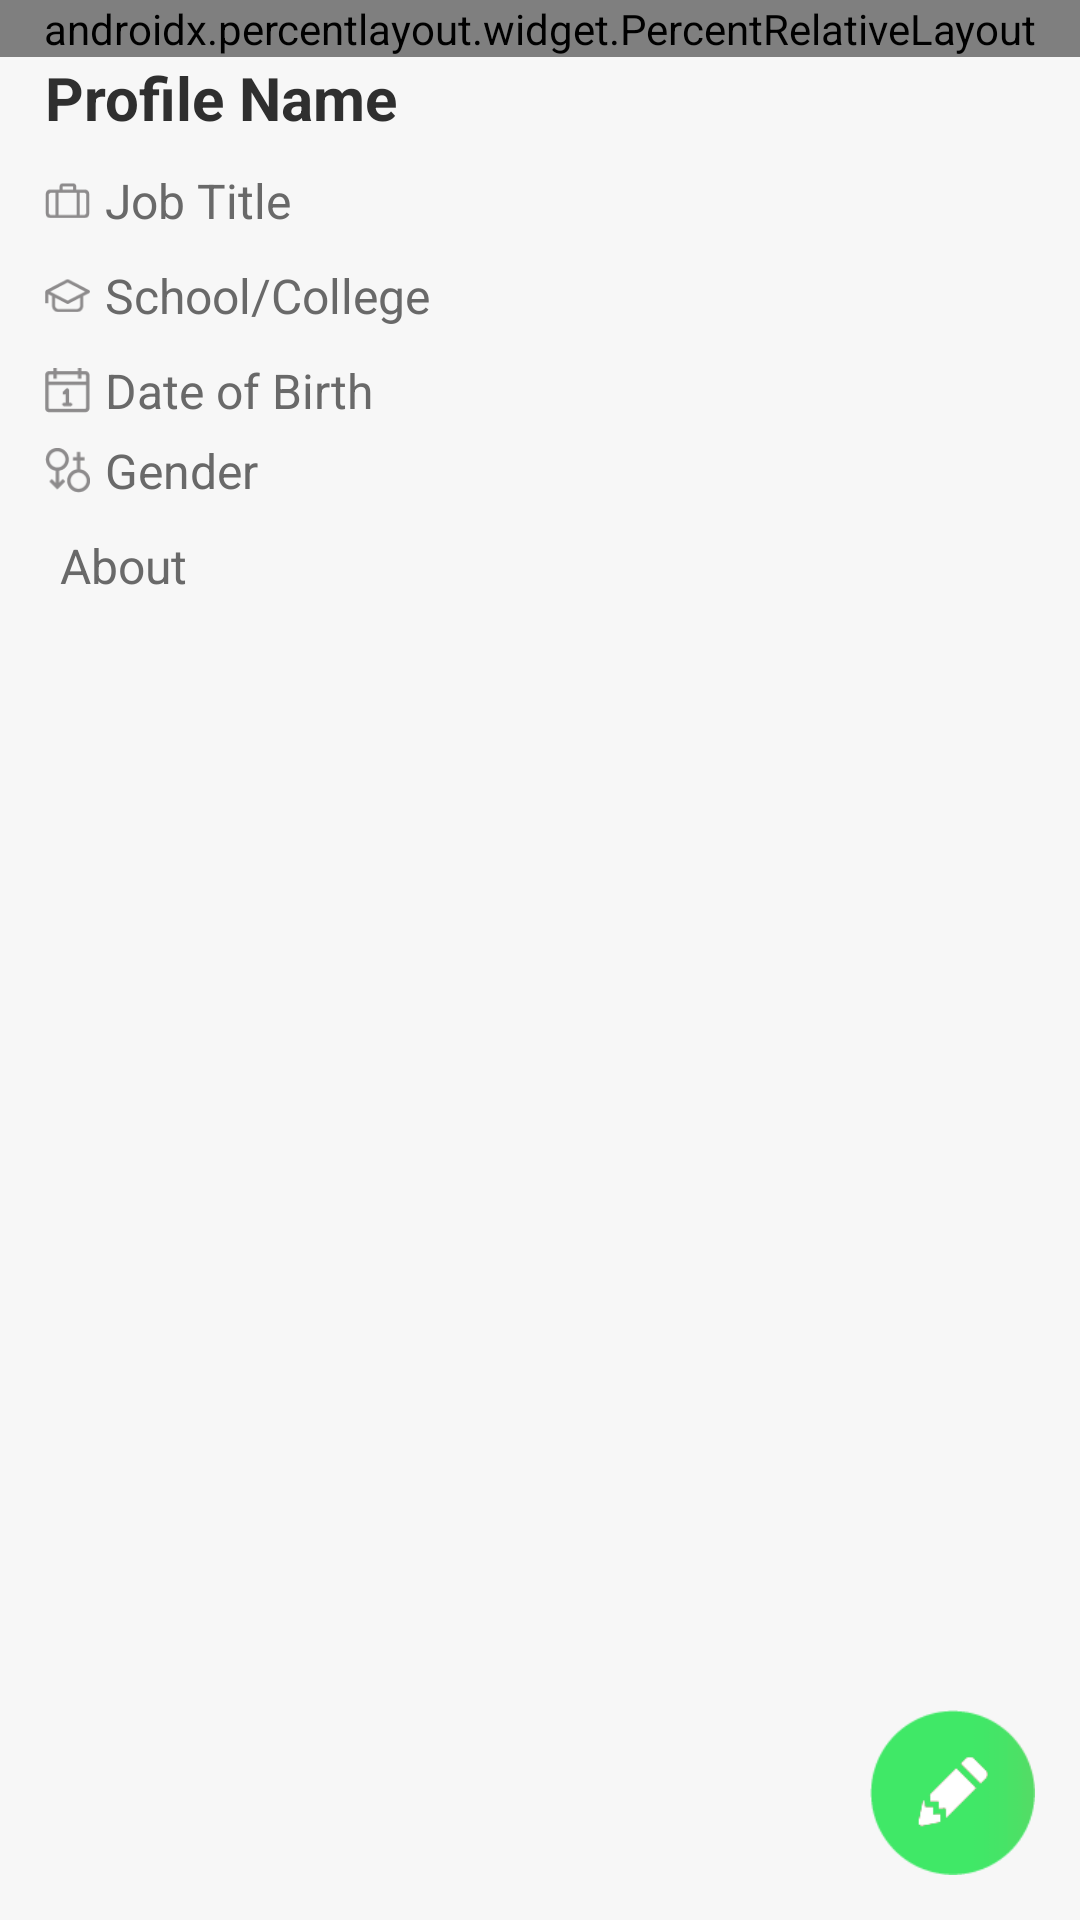

Locate icon controls on the screen. Image size 1080px x 1920px, boxes as [x1,y1,x2,y2].
birthday: [45,368,90,413]
edit: [870,1710,1035,1875]
